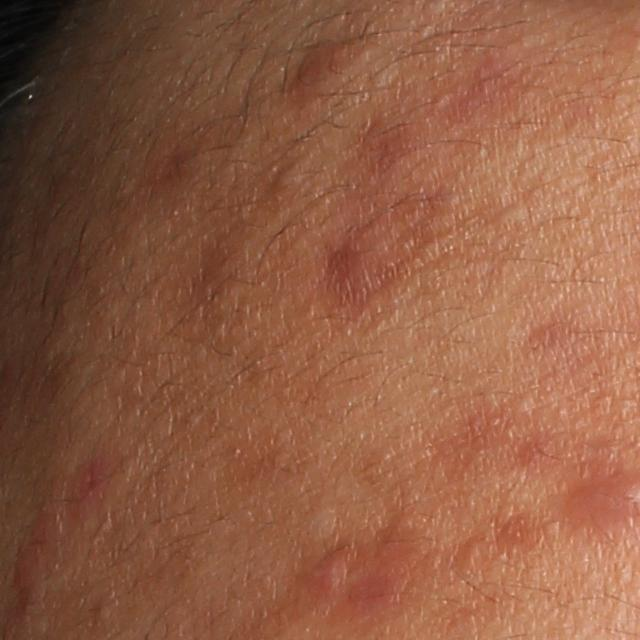atrophic_scar: (322, 195, 451, 305)
comedo: (495, 201, 530, 225)
papule: (7, 542, 46, 598), (305, 551, 348, 598)
